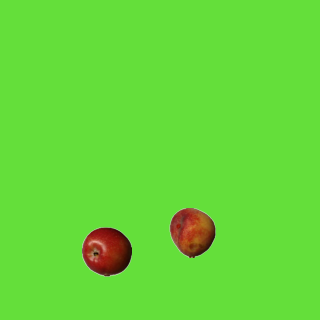Apple Braeburn: (81, 226, 131, 276)
Peach: (167, 207, 217, 257)
